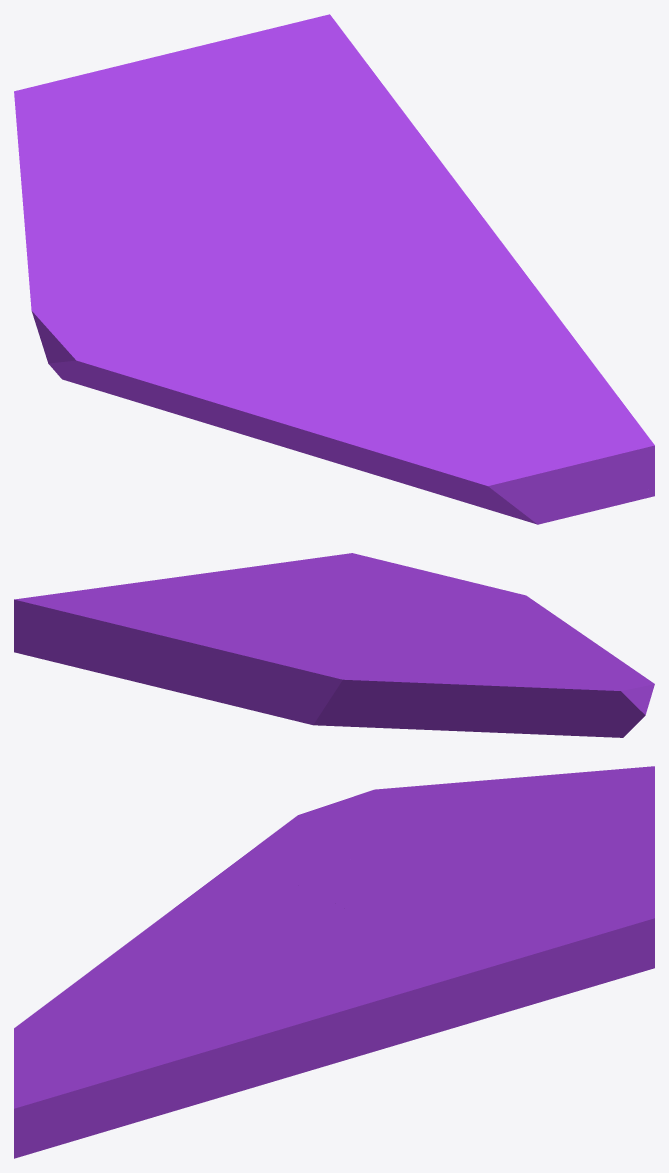
The model's file is Window_141_2_chunks.fbx.
The picture shows the model from 3 angles, top to bottom: view 1: azimuth 30°, elevation 25°; view 2: azimuth 150°, elevation 25°; view 3: azimuth 270°, elevation 25°; orthographic projection. The views are drawn at different scales.
Parts seen in each view (by area): view 1: Window_141_2_0, Window_141_2_8, Window_141_2_9, Window_141_2_7, Window_141_2_3, Window_141_2_29, Window_141_2_5, Window_141_2_33, Window_141_2_17, Window_141_2_18, Window_141_2_19, Window_141_2_11 (+11 smaller); view 2: Window_141_2_0, Window_141_2_9, Window_141_2_13, Window_141_2_14, Window_141_2_5, Window_141_2_19, Window_141_2_8, Window_141_2_18, Window_141_2_17, Window_141_2_33, Window_141_2_3, Window_141_2_11 (+13 smaller); view 3: Window_141_2_0, Window_141_2_26, Window_141_2_8, Window_141_2_9, Window_141_2_2, Window_141_2_28, Window_141_2_33, Window_141_2_17, Window_141_2_18, Window_141_2_5, Window_141_2_1, Window_141_2_19 (+12 smaller).
Boxes of the visible parts, x1,y1,x2,y2 form: Window_141_2_0: (233,14,371,224); Window_141_2_8: (449,296,654,496); Window_141_2_9: (22,190,183,298); Window_141_2_7: (415,410,634,524); Window_141_2_3: (57,345,318,439); Window_141_2_29: (271,346,497,512); Window_141_2_5: (30,293,238,383); Window_141_2_33: (254,248,450,341); Window_141_2_17: (128,63,237,186); Window_141_2_18: (14,95,148,196); Window_141_2_19: (14,38,233,119); Window_141_2_11: (178,211,314,294); Window_141_2_0: (14,593,303,677); Window_141_2_9: (412,650,605,735); Window_141_2_13: (275,672,464,730); Window_141_2_14: (119,645,290,715); Window_141_2_5: (451,641,648,737); Window_141_2_19: (115,624,347,681); Window_141_2_8: (269,553,426,591); Window_141_2_18: (320,654,475,691); Window_141_2_17: (148,625,371,655); Window_141_2_33: (303,591,441,637); Window_141_2_3: (537,632,654,704); Window_141_2_11: (302,618,494,655); Window_141_2_0: (396,871,654,974); Window_141_2_26: (400,935,630,1043); Window_141_2_8: (14,996,263,1148); Window_141_2_9: (349,777,520,861); Window_141_2_2: (146,982,334,1095); Window_141_2_28: (235,981,415,1081); Window_141_2_33: (228,899,367,997); Window_141_2_17: (476,826,622,883); Window_141_2_18: (495,766,649,839); Window_141_2_5: (276,788,388,891); Window_141_2_1: (14,1076,216,1158); Window_141_2_19: (583,766,654,873).
Bounding box in the file's own units: 919 × 482 × 1165.
